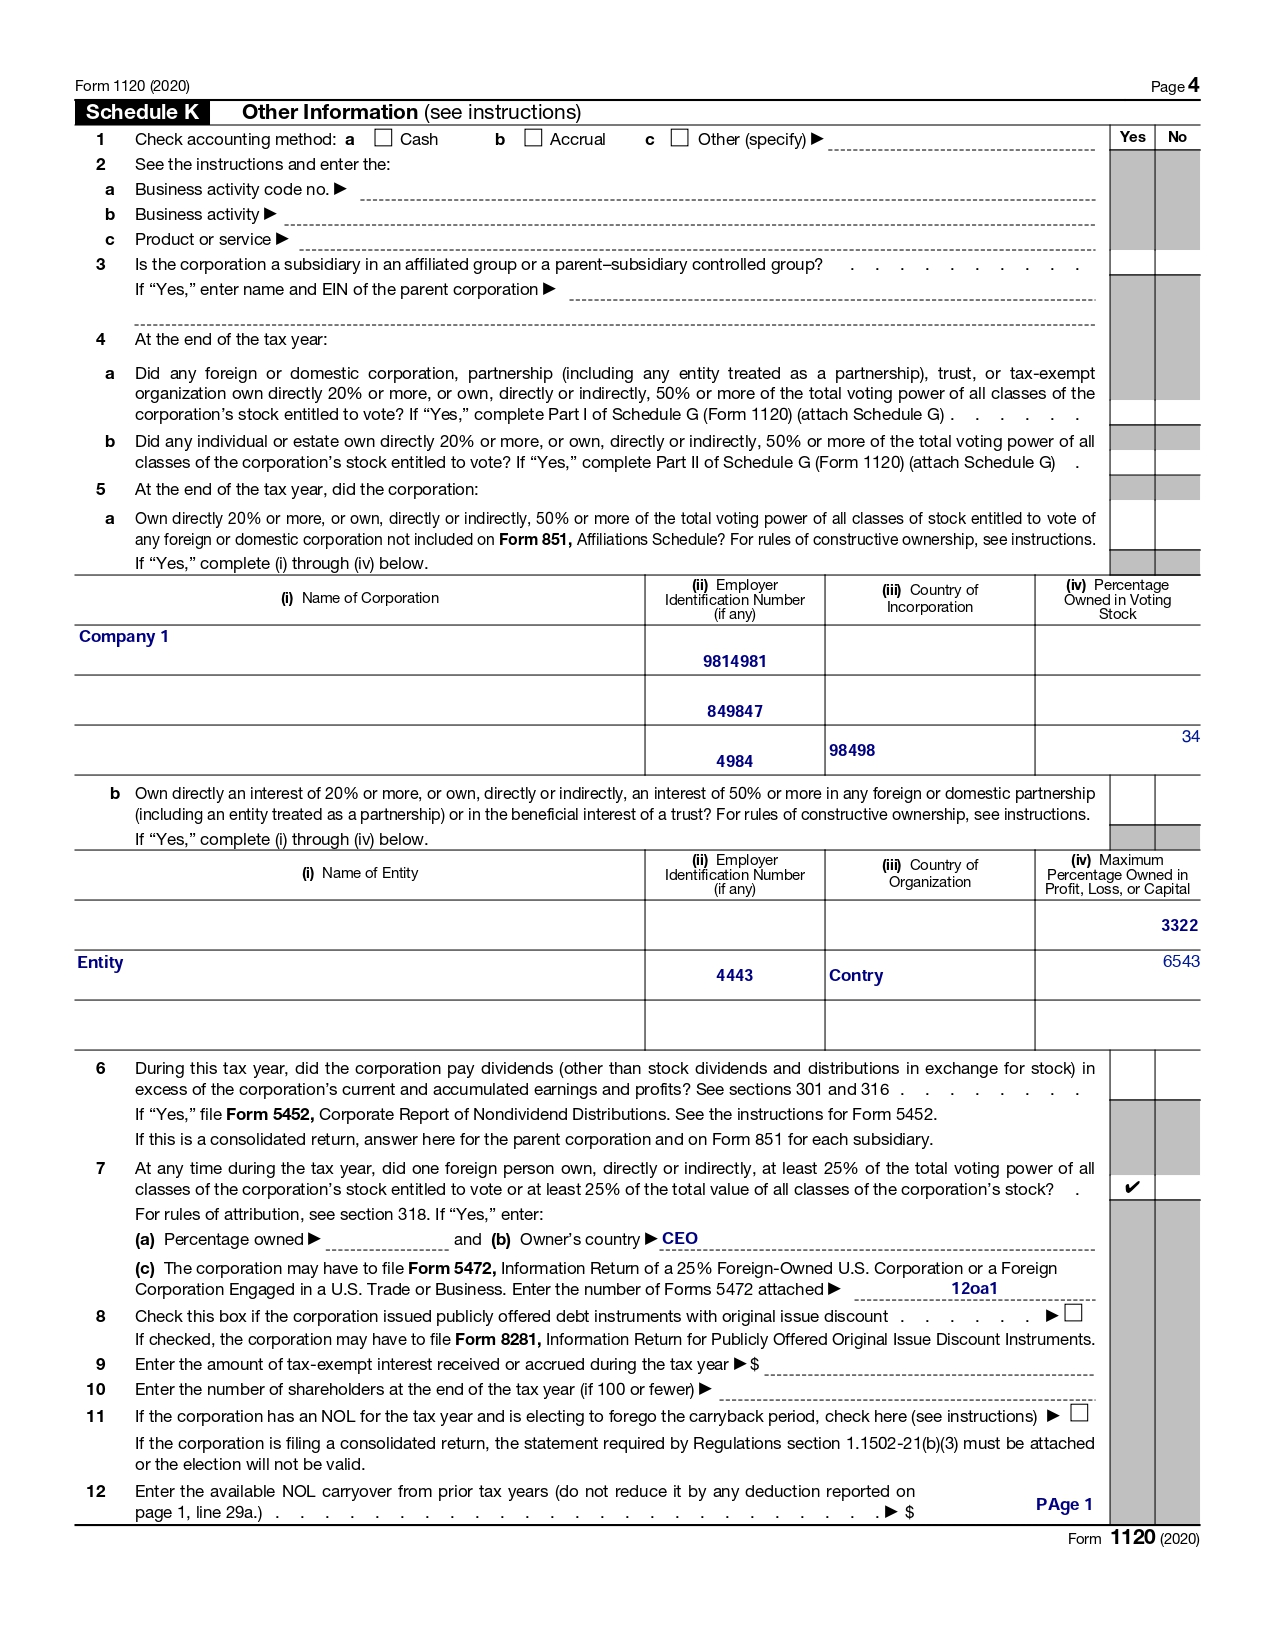table: (80, 100, 1220, 578), (78, 1058, 1213, 1529), (65, 850, 1229, 1054), (64, 574, 1225, 777), (82, 774, 1224, 849)
